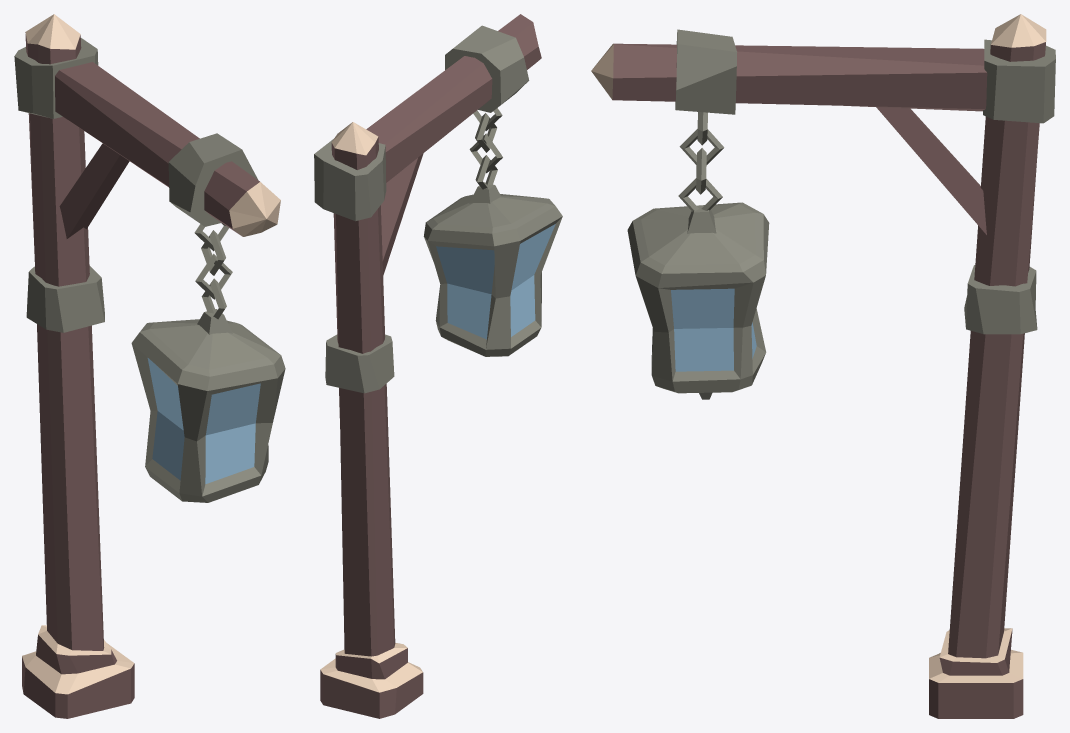
File: SM_L_street_Lamp.fbx
3 views of the same model, side by side, from view 1: azimuth 30°, elevation 25°; view 2: azimuth 150°, elevation 25°; view 3: azimuth 270°, elevation 25° (orthographic). The views are drawn at different scales.
Visible parts, largest first — view 1: SM_L_Street_Lamp; view 2: SM_L_Street_Lamp; view 3: SM_L_Street_Lamp.
Boxes of the visible parts, x1,y1,x2,y2 form: SM_L_Street_Lamp: (14, 14, 285, 718); SM_L_Street_Lamp: (314, 14, 562, 718); SM_L_Street_Lamp: (591, 14, 1055, 718).
Bounding box in the file's own units: 54.95 × 312 × 192.
1 material, 1 textured.
